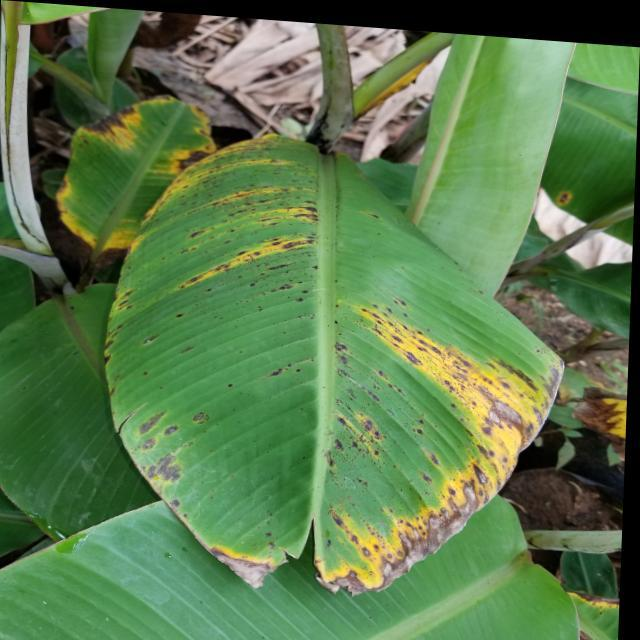Early_rust: (110, 125, 551, 605), (42, 65, 232, 270), (531, 357, 640, 472)
